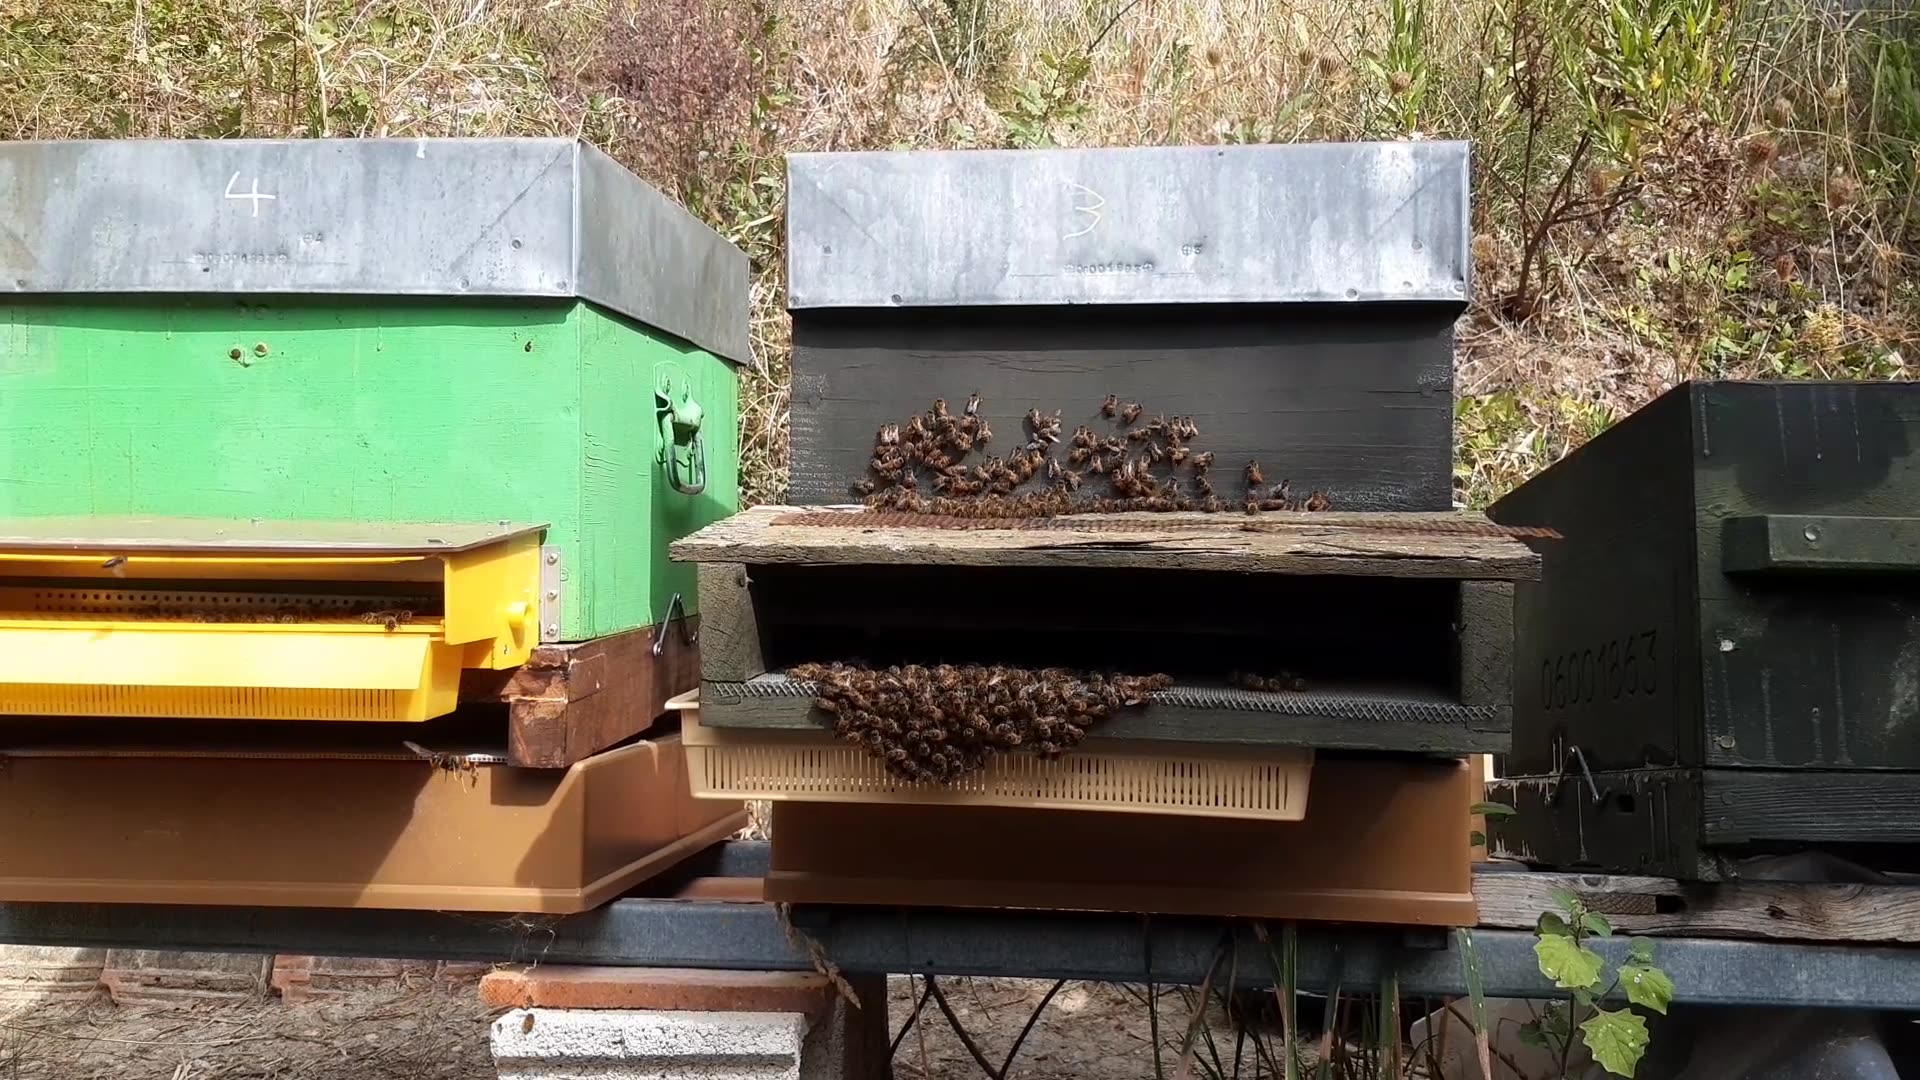bee: (796, 675, 884, 756), (918, 669, 997, 757), (862, 713, 928, 785), (926, 462, 1000, 520), (927, 406, 992, 463), (1134, 411, 1193, 472), (1139, 467, 1203, 524), (1029, 717, 1085, 781), (1038, 469, 1106, 521), (1225, 465, 1294, 514), (1480, 280, 1530, 340), (1039, 410, 1096, 460), (934, 659, 1011, 688)
